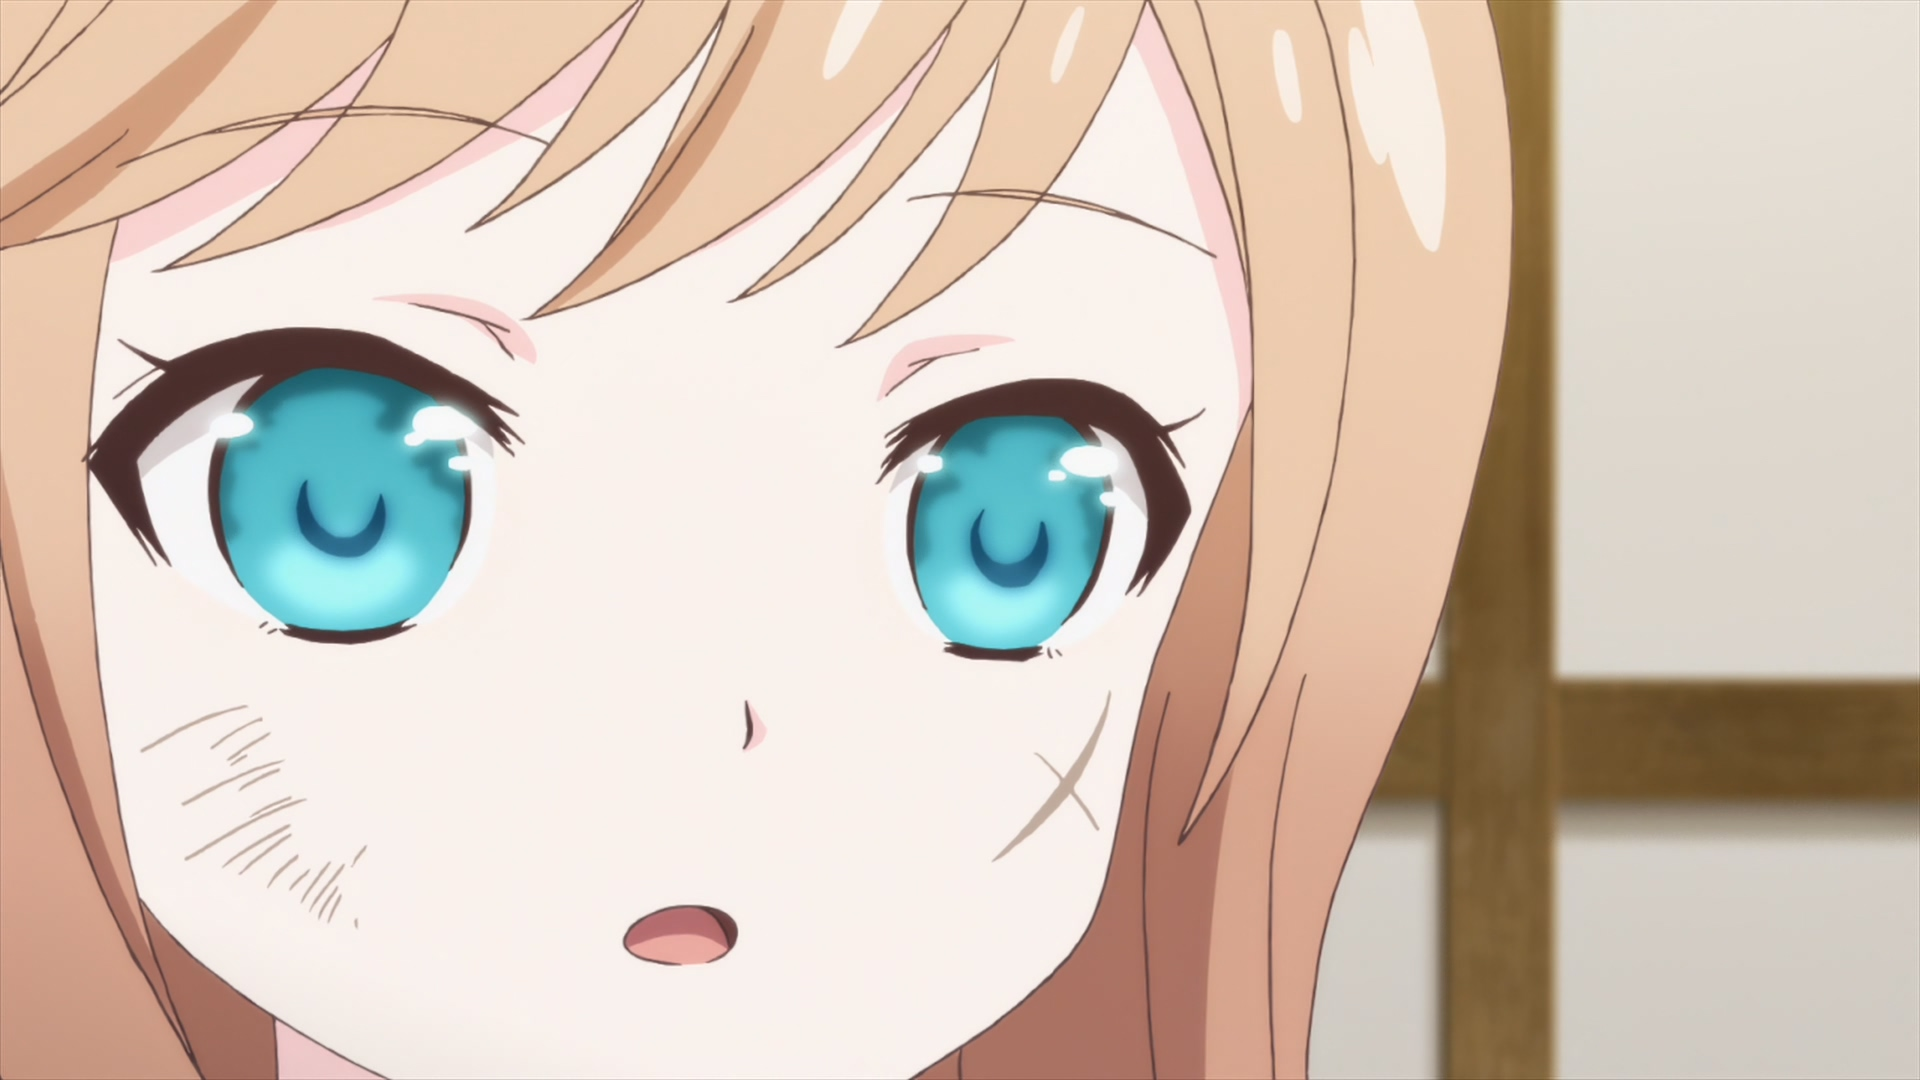其他: (1, 1, 1511, 1080)
